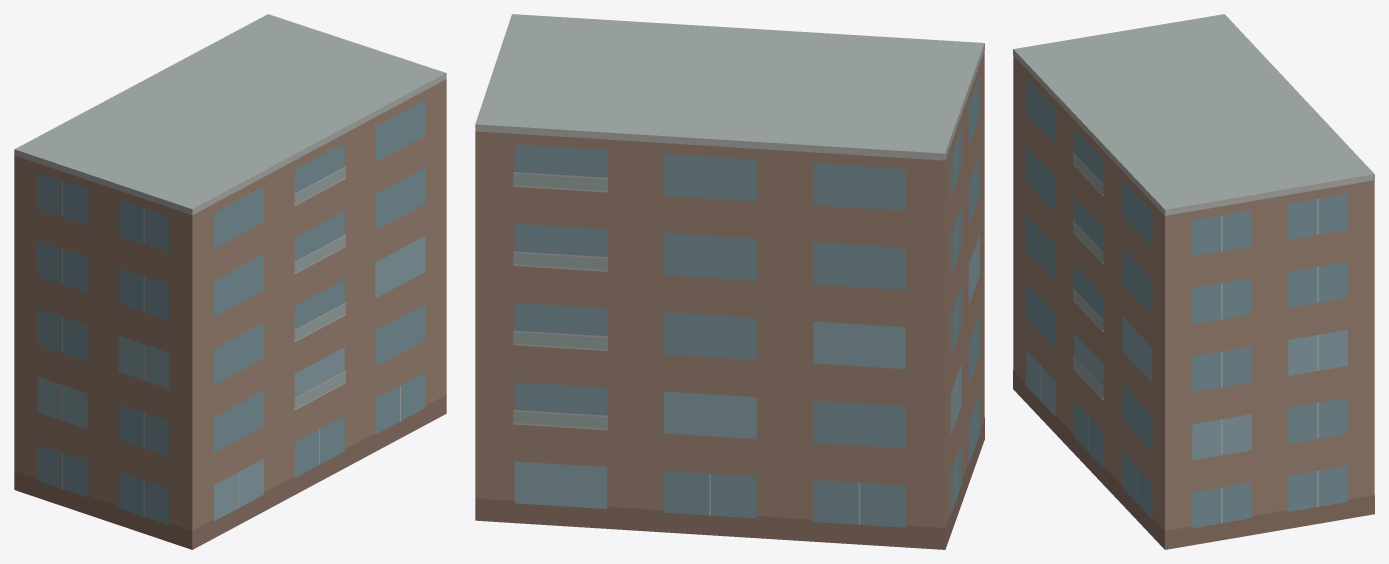
The model's file is survey-upis-32951589.glb.
3 views of the same model, side by side, from view 1: azimuth 30°, elevation 25°; view 2: azimuth 150°, elevation 25°; view 3: azimuth 270°, elevation 25° (orthographic). The views are drawn at different scales.
Visible parts, largest first — view 1: survey-upis-32951589.tmp; view 2: survey-upis-32951589.tmp; view 3: survey-upis-32951589.tmp.
Boxes of the visible parts, left/top/right/bottom form: survey-upis-32951589.tmp: left=14, top=14, right=446, bottom=549; survey-upis-32951589.tmp: left=475, top=14, right=984, bottom=549; survey-upis-32951589.tmp: left=1013, top=14, right=1374, bottom=549.
Bounding box in the file's own units: 17.07 × 13.8 × 13.31.
